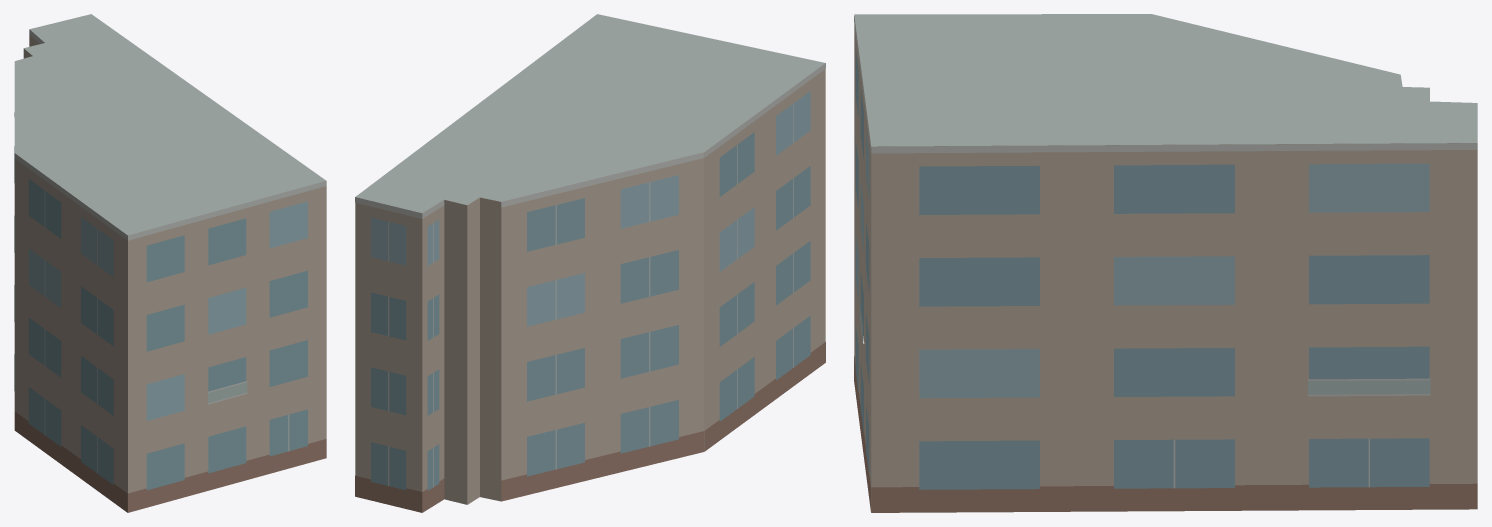
The model's file is survey-upis-32912801.glb.
3 renders of one model, left to right at view 1: azimuth 30°, elevation 25°; view 2: azimuth 150°, elevation 25°; view 3: azimuth 270°, elevation 25°, orthographic. The views are drawn at different scales.
Visible parts, largest first — view 1: survey-upis-32912801.tmp; view 2: survey-upis-32912801.tmp; view 3: survey-upis-32912801.tmp.
Part boxes in pixels (x1=…): survey-upis-32912801.tmp: x1=14, y1=14, x2=326, y2=512; survey-upis-32912801.tmp: x1=355, y1=14, x2=825, y2=512; survey-upis-32912801.tmp: x1=854, y1=14, x2=1477, y2=512.
Bounding box in the file's own units: 10.01 × 12.9 × 19.91.
